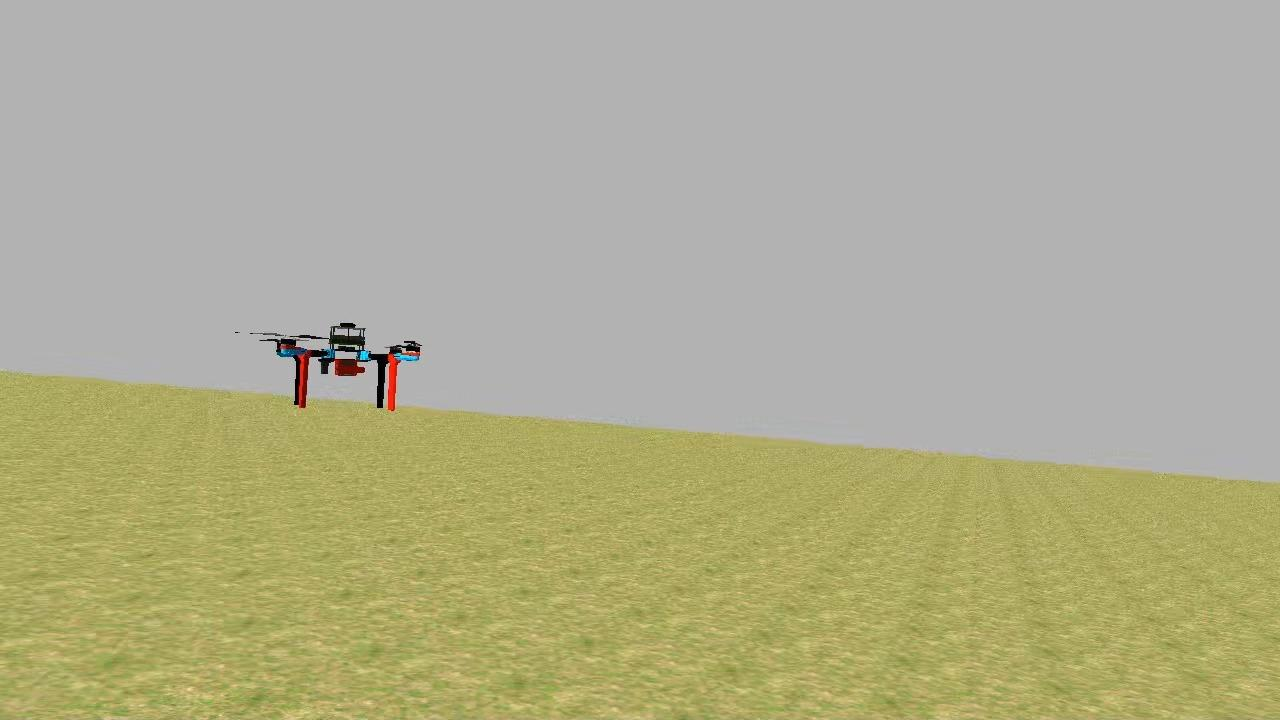UAV: (268, 316, 426, 414)
